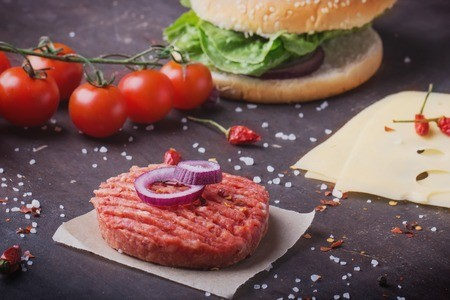ground_beef: (97, 150, 278, 279)
